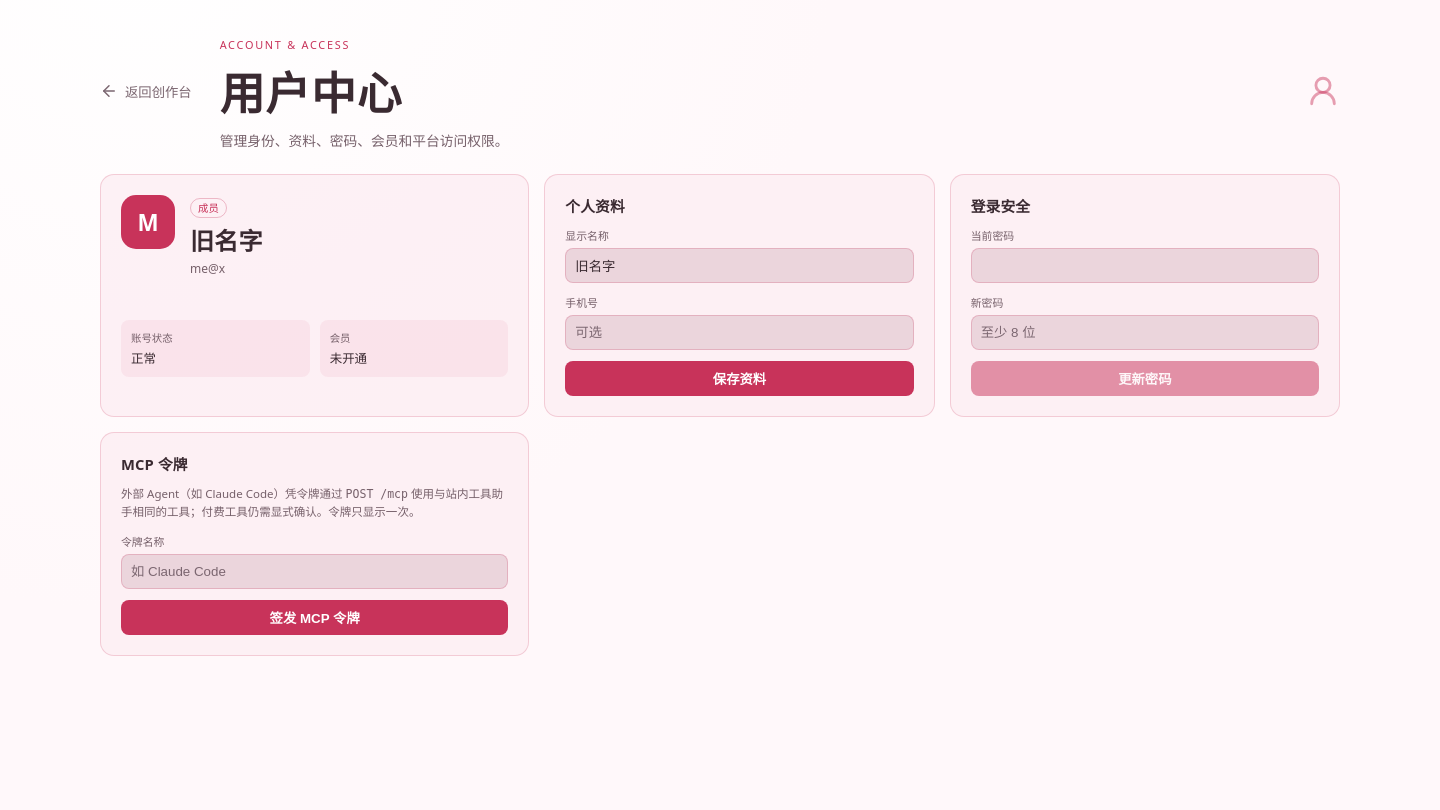
Test: UserCenterPage › keeps a half-typed display name when the password change reloads the page
Replace the text in the field labelled "显示名称" with "新名字" at coordinates (739, 266), box [565,248,914,283]
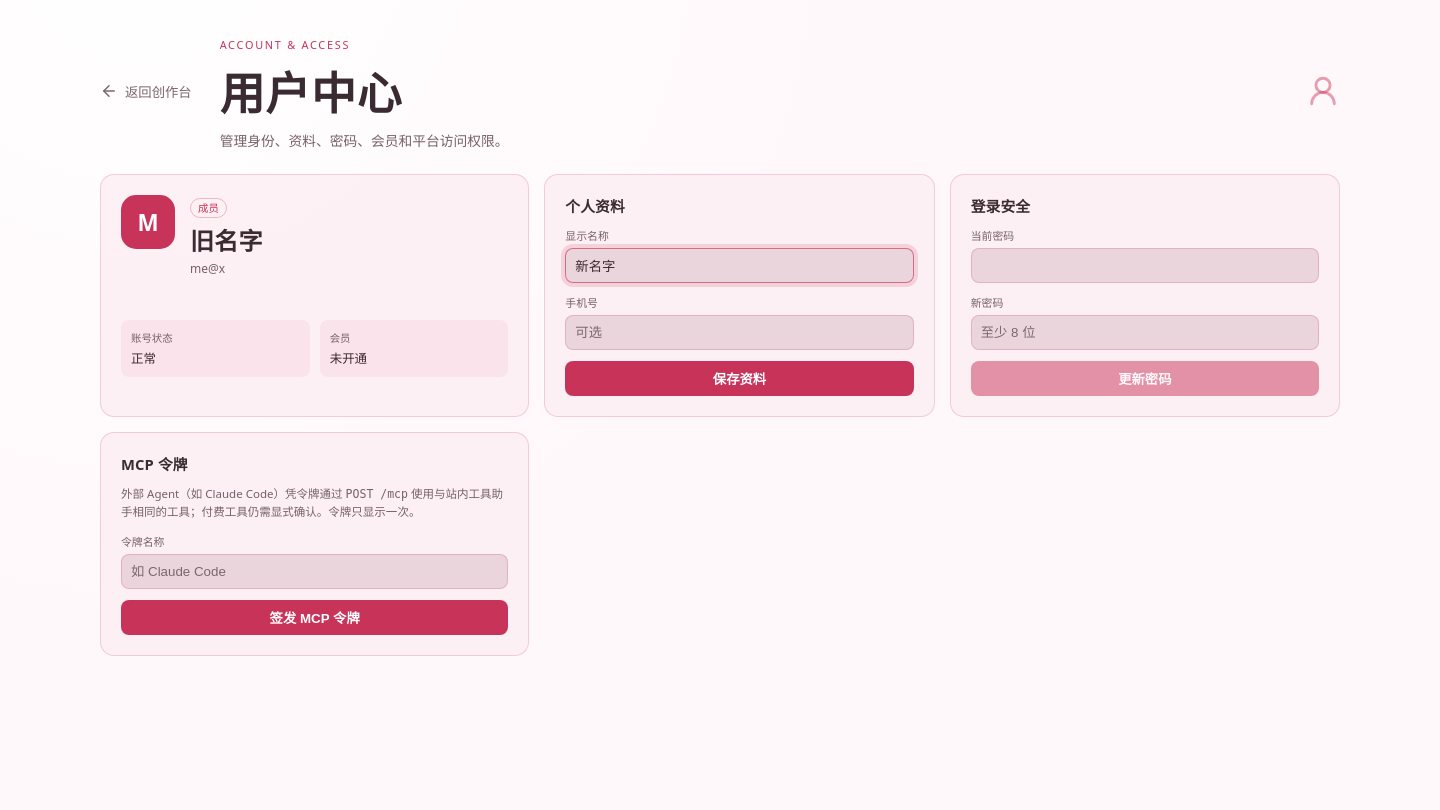
Type "old-password" into the password field labelled "当前密码" at coordinates (1145, 266), box [971,248,1319,283]
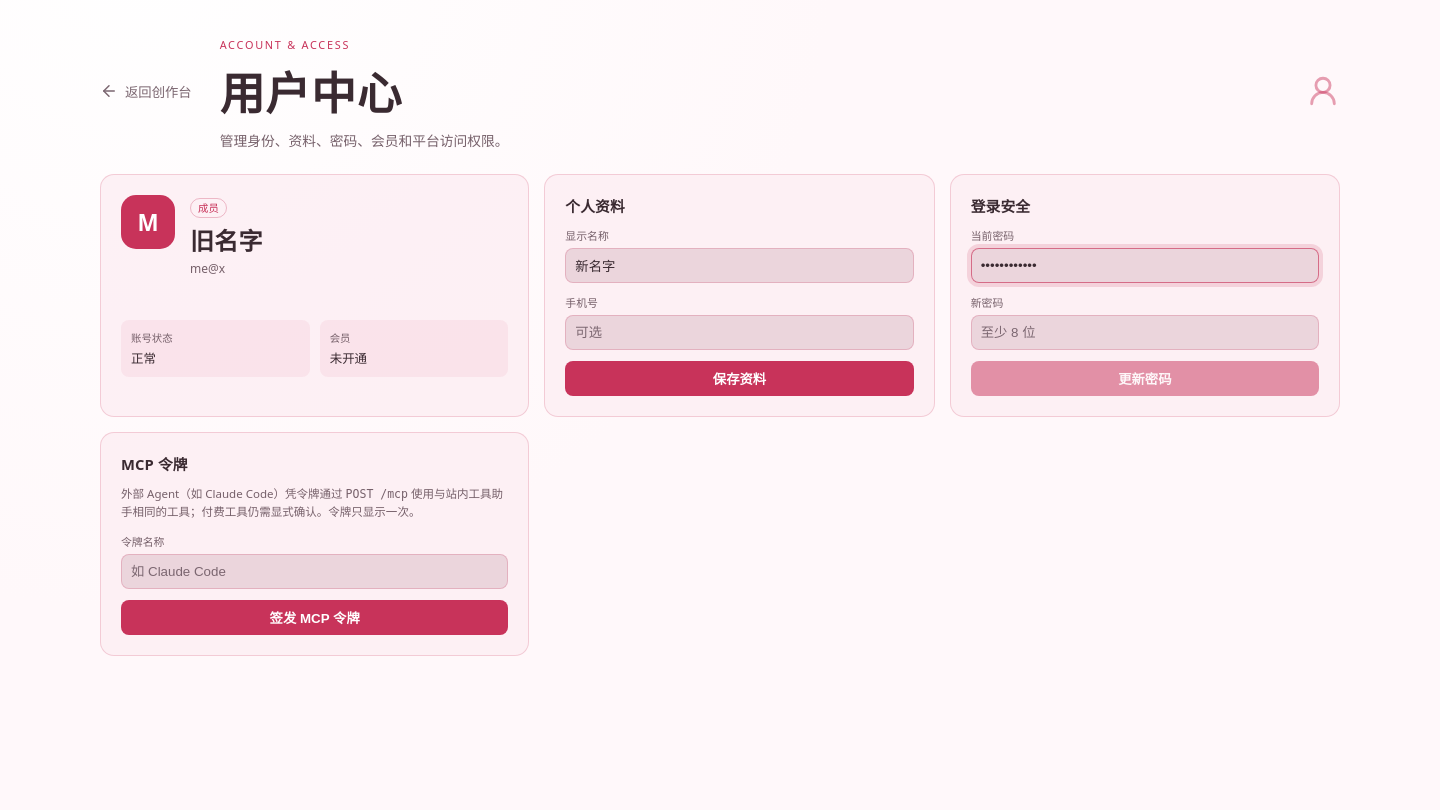
Type "new-password-1" into the password field labelled "新密码" at coordinates (1145, 332), box [971,315,1319,350]
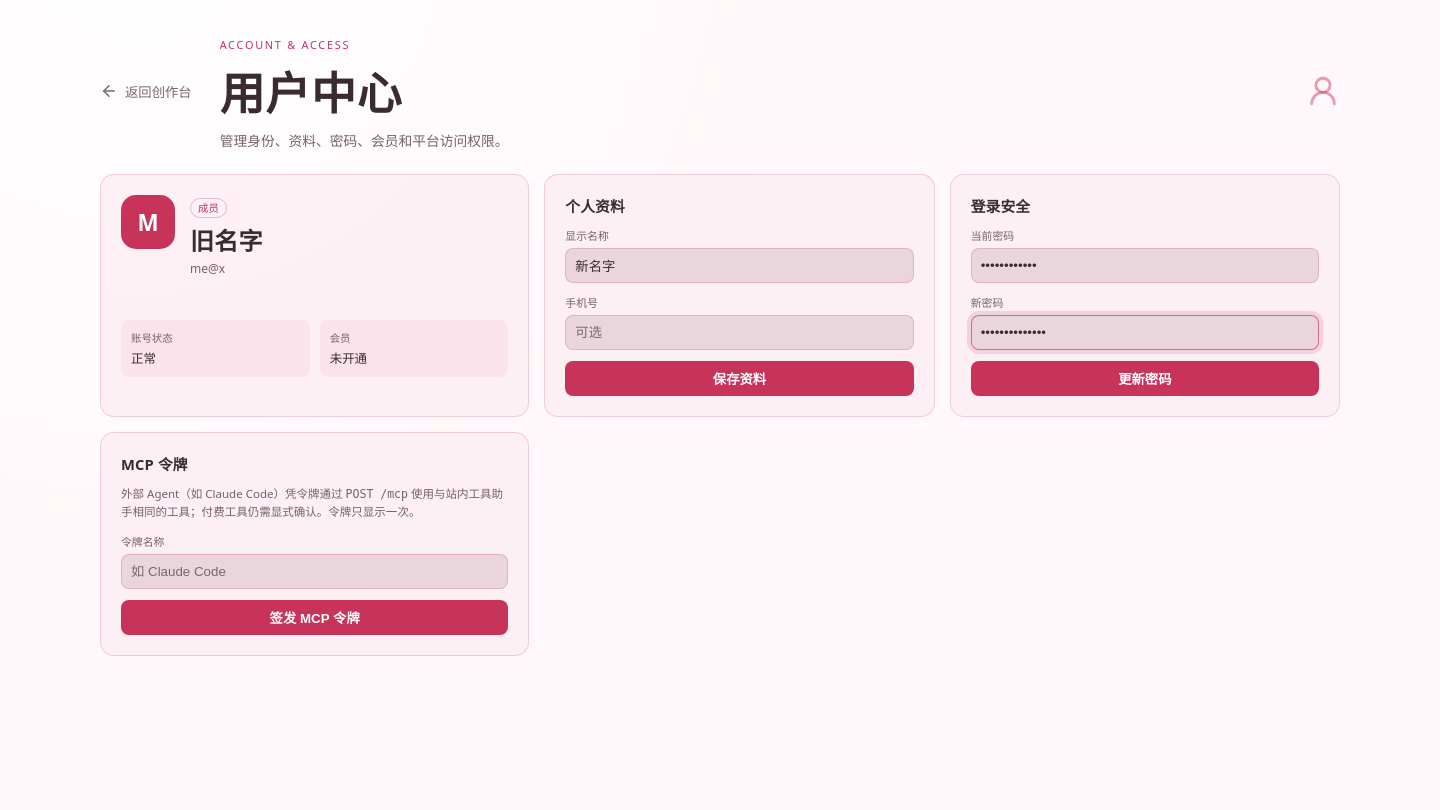
Click the button "更新密码" at coordinates (1145, 378), box [971,361,1319,396]
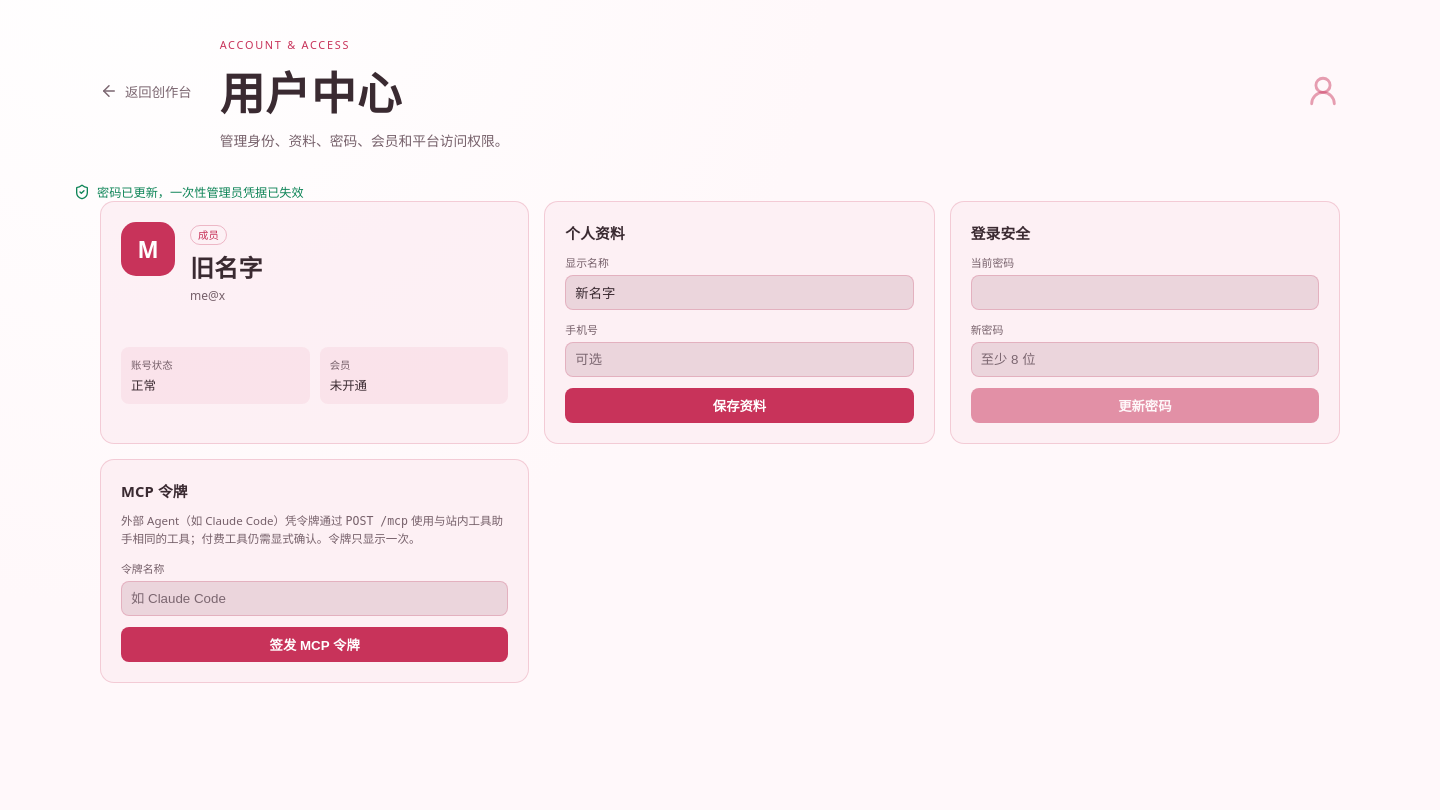
expect the text "密码已更新，一次性管理员凭据已失效" is shown: met, box [74,184,304,201]
